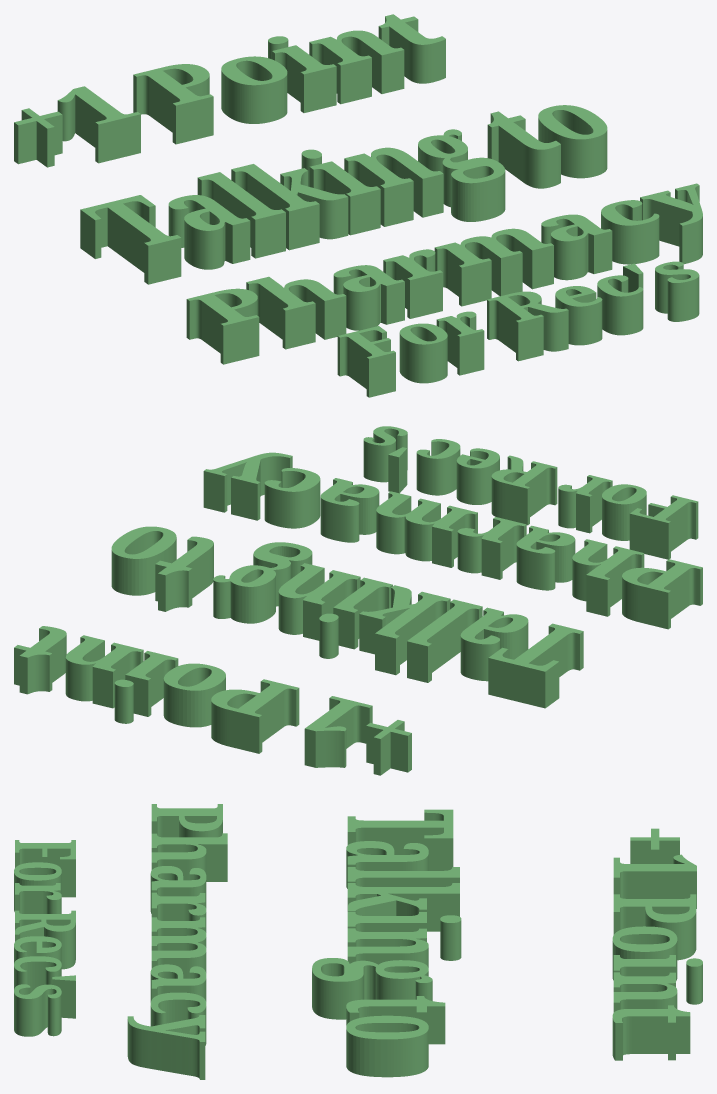
Rendered from posanti.gltf.
The picture shows the model from 3 angles, top to bottom: view 1: azimuth 30°, elevation 25°; view 2: azimuth 150°, elevation 25°; view 3: azimuth 270°, elevation 25°; orthographic projection. The views are drawn at different scales.
Parts seen in each view (by area): view 1: Mesh_Mesh_head_geo001_lambert2SG001; view 2: Mesh_Mesh_head_geo001_lambert2SG001; view 3: Mesh_Mesh_head_geo001_lambert2SG001.
Boxes of the visible parts, x1,y1,x2,y2 form: Mesh_Mesh_head_geo001_lambert2SG001: (14,14,702,397); Mesh_Mesh_head_geo001_lambert2SG001: (14,426,702,775); Mesh_Mesh_head_geo001_lambert2SG001: (14,804,702,1079).
Size of the model in its own units: 135 by 10 by 165.
